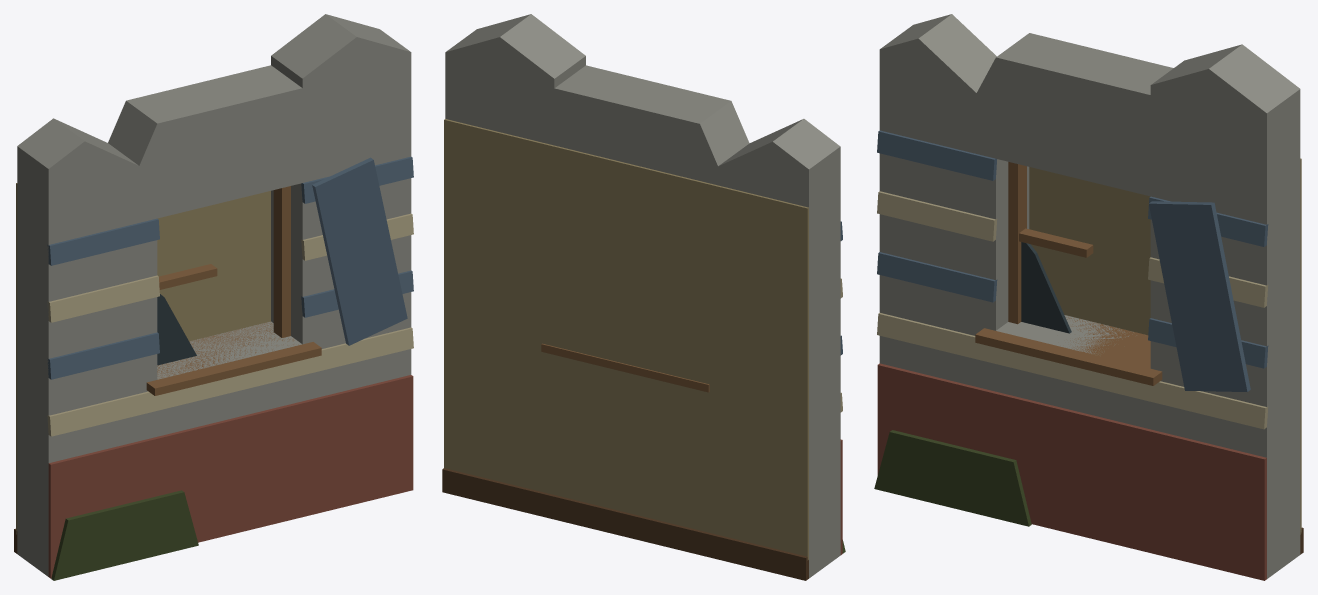
Rendered from ruins_house_wall_window.glb.
3 views of the same model, side by side, from view 1: azimuth 30°, elevation 25°; view 2: azimuth 150°, elevation 25°; view 3: azimuth 330°, elevation 25° (orthographic). The views are drawn at different scales.
Parts seen in each view (by area): view 1: ruins_house_wall_window_mesh; view 2: ruins_house_wall_window_mesh; view 3: ruins_house_wall_window_mesh.
Boxes of the visible parts, x1,y1,x2,y2 form: ruins_house_wall_window_mesh: (14,14,413,580); ruins_house_wall_window_mesh: (442,14,845,580); ruins_house_wall_window_mesh: (874,14,1303,580).
Bounding box in the file's own units: 2 × 2.45 × 0.41.
